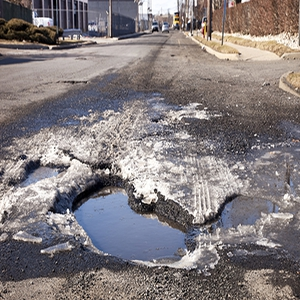pothole: (65, 174, 204, 269), (6, 157, 71, 189)
